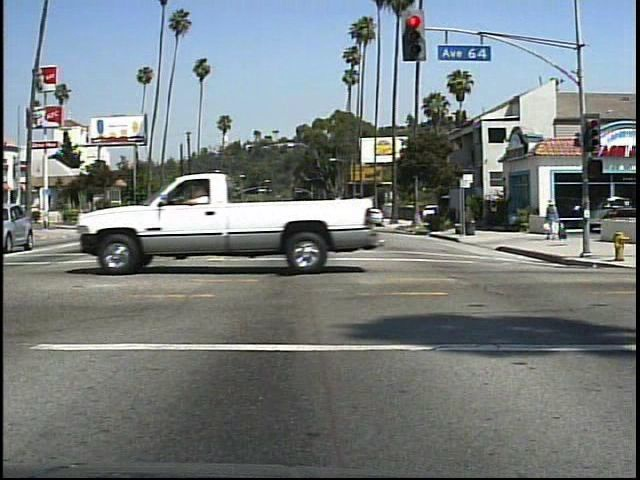person: (540, 193, 567, 247)
